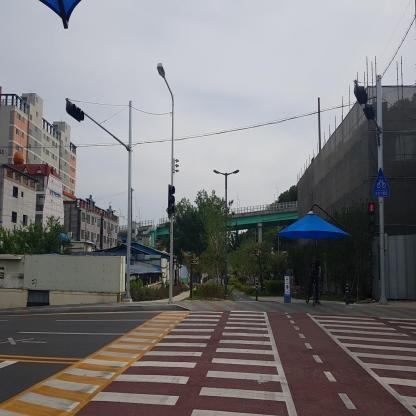Red: (368, 202, 375, 233)
